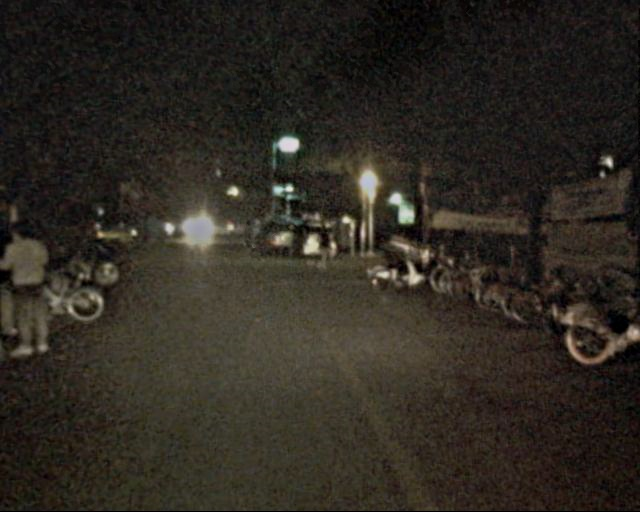person: (313, 224, 336, 273), (239, 219, 253, 252)
